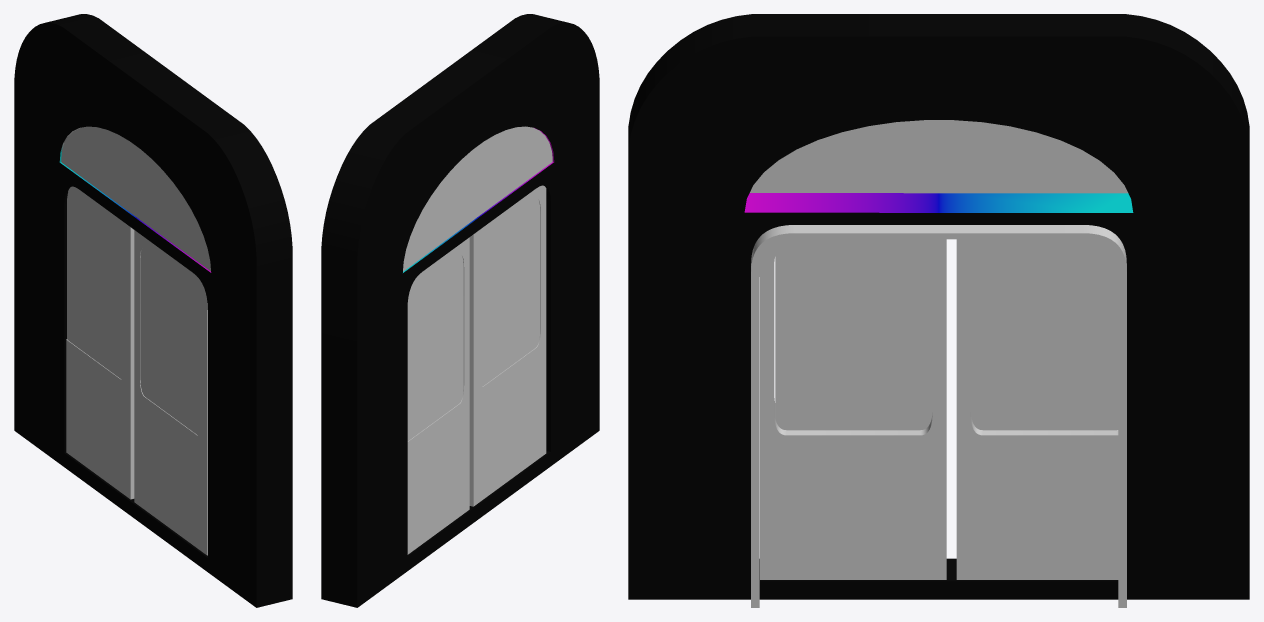
Rendered from PuertaGrandeTren.fbx.
The picture shows the model from 3 angles, left to right: view 1: azimuth 30°, elevation 25°; view 2: azimuth 150°, elevation 25°; view 3: azimuth 270°, elevation 25°; orthographic projection. The views are drawn at different scales.
Visible parts, largest first — view 1: BaseParedPuertaGrandeVagonLau001, PuertaGrande1, PuertaGrande2, Box040, Box041, VentanaPuertaGrande; view 2: BaseParedPuertaGrandeVagonLau001, PuertaGrande1, Box040, PuertaGrande2, VentanaPuertaGrande, Box041; view 3: BaseParedPuertaGrandeVagonLau001, PuertaGrande1, Box040, PuertaGrande2, Box041, VentanaPuertaGrande, MarcoPuertaGrande.
Boxes of the visible parts, left/top/right/bottom form: BaseParedPuertaGrandeVagonLau001: left=14, top=14, right=292, bottom=607; PuertaGrande1: left=134, top=230, right=207, bottom=555; PuertaGrande2: left=66, top=186, right=134, bottom=499; Box040: left=140, top=247, right=201, bottom=435; Box041: left=67, top=192, right=124, bottom=379; VentanaPuertaGrande: left=61, top=126, right=210, bottom=271; BaseParedPuertaGrandeVagonLau001: left=321, top=14, right=599, bottom=607; PuertaGrande1: left=469, top=185, right=546, bottom=506; Box040: left=479, top=199, right=539, bottom=386; PuertaGrande2: left=407, top=237, right=469, bottom=554; VentanaPuertaGrande: left=403, top=126, right=552, bottom=271; Box041: left=407, top=255, right=463, bottom=441; BaseParedPuertaGrandeVagonLau001: left=628, top=14, right=1249, bottom=599; PuertaGrande1: left=760, top=239, right=946, bottom=579; Box040: left=775, top=244, right=932, bottom=430; PuertaGrande2: left=956, top=239, right=1118, bottom=579; Box041: left=970, top=244, right=1118, bottom=430; VentanaPuertaGrande: left=750, top=120, right=1127, bottom=193; MarcoPuertaGrande: left=751, top=225, right=1126, bottom=607.
Size of the model in its own units: 47.12 by 400 by 400.
